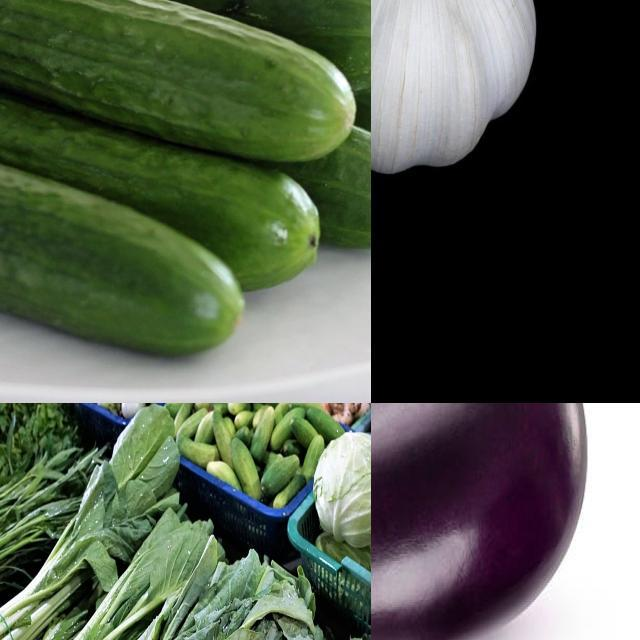cabbage: (317, 429, 372, 551)
cucumber: (1, 52, 326, 296), (1, 97, 250, 367), (1, 1, 364, 162), (234, 437, 262, 509), (211, 406, 237, 470), (293, 416, 323, 450)
eggplant: (372, 404, 589, 640)
garlic: (372, 1, 542, 175)
